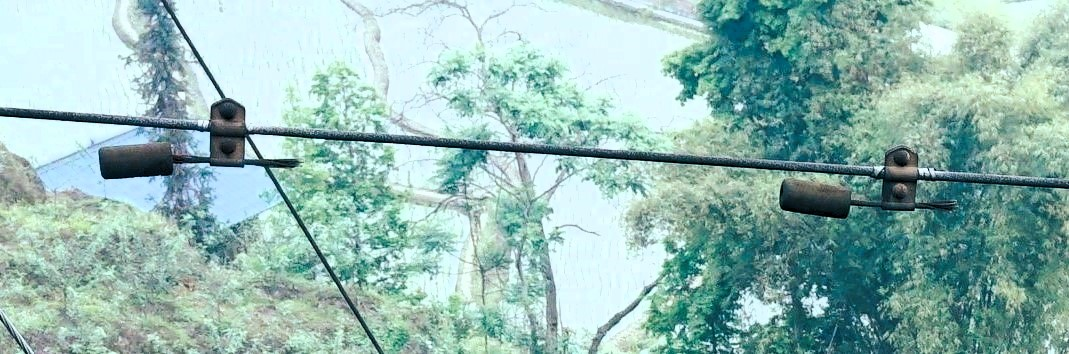Damage of shockproof hammer: (76, 90, 309, 190), (767, 138, 971, 230)
